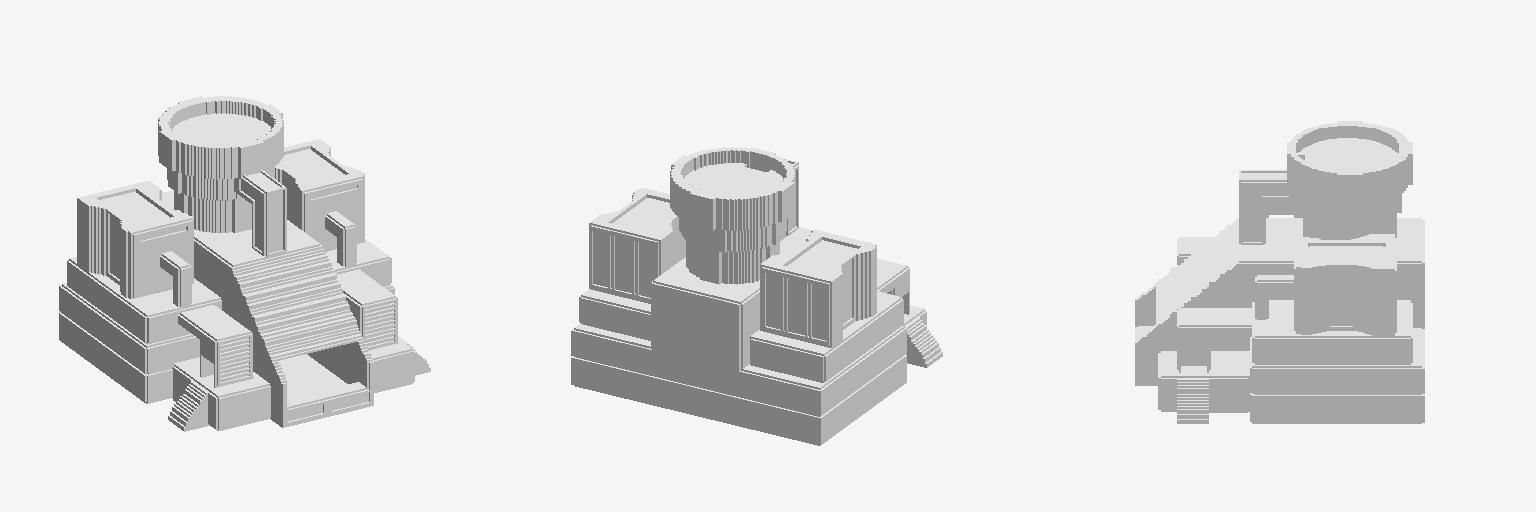
The model's file is Red_Rsources.obj.
3 renders of one model, left to right at view 1: azimuth 30°, elevation 25°; view 2: azimuth 150°, elevation 25°; view 3: azimuth 270°, elevation 25°, orthographic.
Parts seen in each view (by area): view 1: Red_Rsources; view 2: Red_Rsources; view 3: Red_Rsources.
Boxes of the visible parts, <box> form: Red_Rsources: <box>59,96,430,431</box>; Red_Rsources: <box>571,147,942,445</box>; Red_Rsources: <box>1135,121,1424,423</box>.
Bounding box in the file's own units: 126 × 104 × 126.